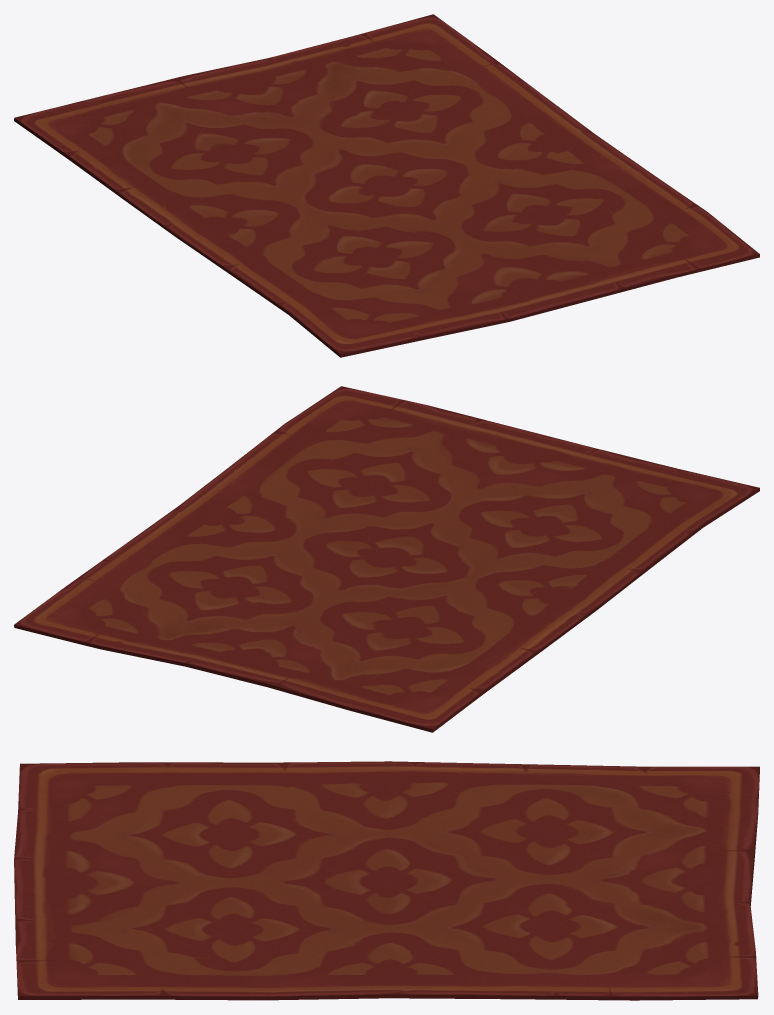
File: Carpet.FBX
The picture shows the model from 3 angles, top to bottom: view 1: azimuth 30°, elevation 25°; view 2: azimuth 150°, elevation 25°; view 3: azimuth 270°, elevation 25°; orthographic projection. The views are drawn at different scales.
Visible parts, largest first — view 1: Carpet; view 2: Carpet; view 3: Carpet.
Boxes of the visible parts, box(x1,y1,x2,y2) form: Carpet: box(14, 14, 759, 357); Carpet: box(14, 386, 759, 732); Carpet: box(14, 761, 759, 1000).
Size of the model in its own units: 1729 by 34.56 by 2332.
